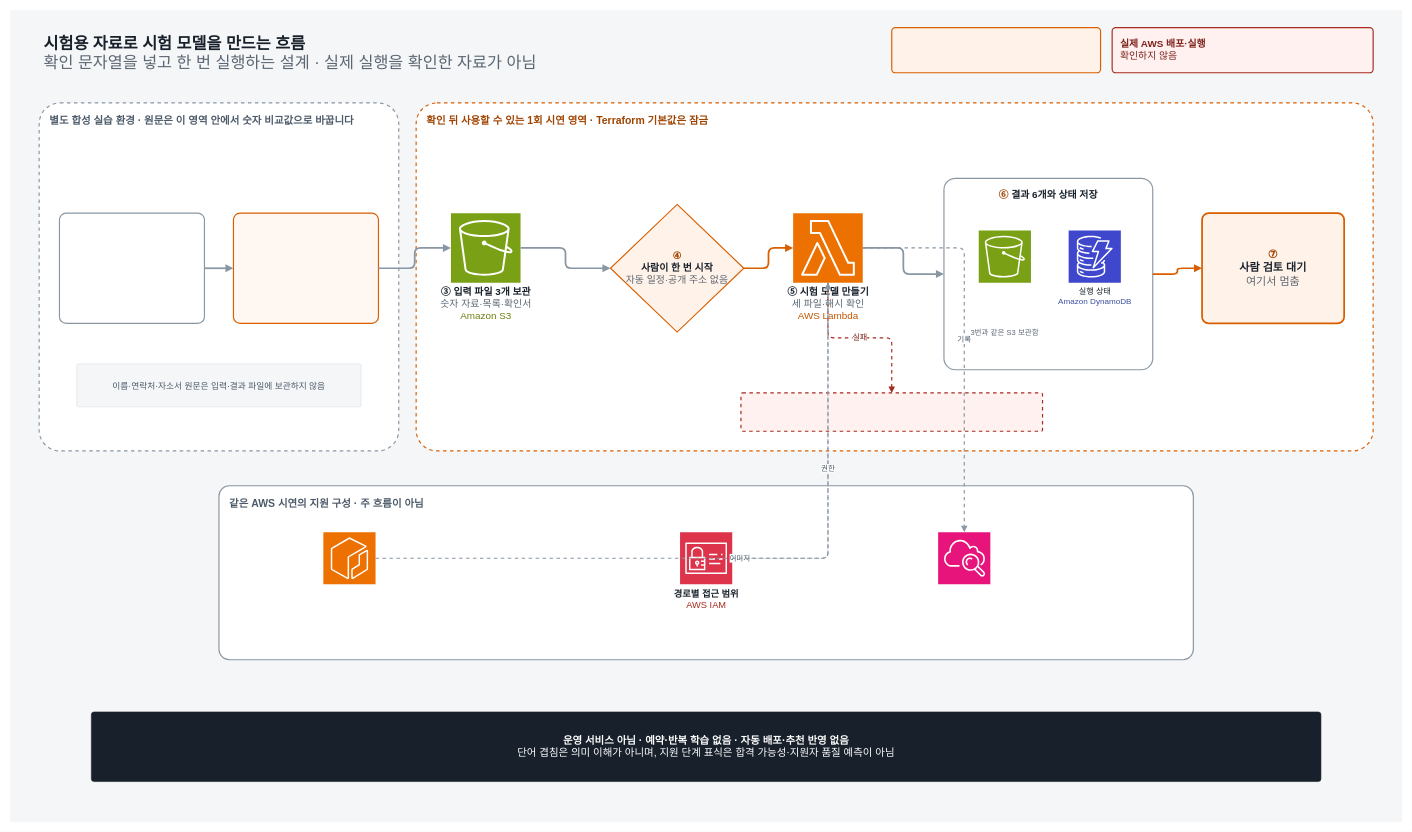
The diagram is 1412 pixels wide and 832 high, and some of its shapes have lost their labels. Here are the shapes that lost their labels. From the top down, the centre of each, then its label:
At point (996, 50): "기본 설정: 잠금 계획상 생성 0개".
At point (132, 268): "① 합성 자료 읽기 합성 회원·기업 자료".
At point (306, 268): "② 숫자 비교값 5개 만들기 기술·경력·직무 두 가지 단어 겹침".
At point (1004, 256): "결과 파일 Amazon S3".
At point (891, 412): "확인 실패 → 가능한 경우 실패 상태 기록 → 안전 중단".
At point (349, 558): "실행 이미지 보관 Amazon ECR".
At point (964, 558): "실행 기록 보관 Amazon CloudWatch Logs".
